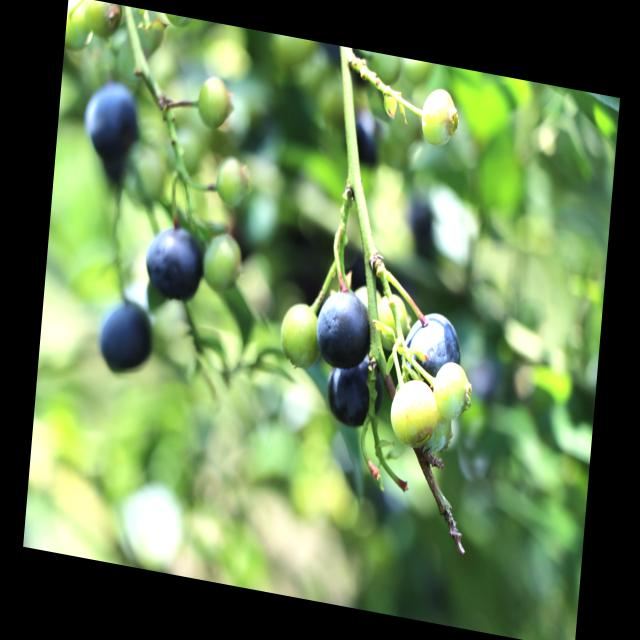blueberry: (80, 76, 145, 167), (95, 290, 159, 381), (142, 219, 208, 305), (313, 286, 377, 374), (401, 306, 466, 391), (322, 351, 387, 433)
blueberry-unripe: (388, 369, 439, 451), (278, 300, 324, 370), (198, 227, 244, 296), (420, 86, 463, 152), (372, 284, 410, 358), (194, 72, 234, 136), (432, 360, 472, 421), (214, 150, 254, 210)
